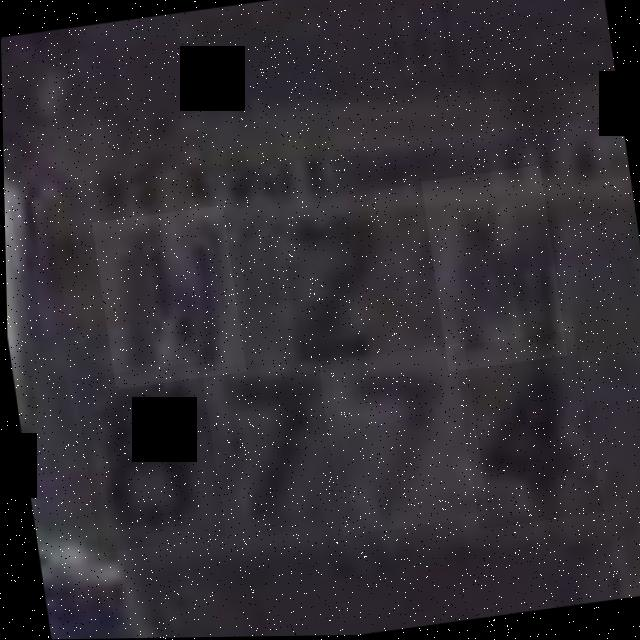4: (451, 331, 600, 530)
7: (316, 343, 486, 537), (188, 352, 351, 543)
B: (72, 362, 223, 553)
N: (420, 166, 567, 373), (90, 205, 245, 389)
